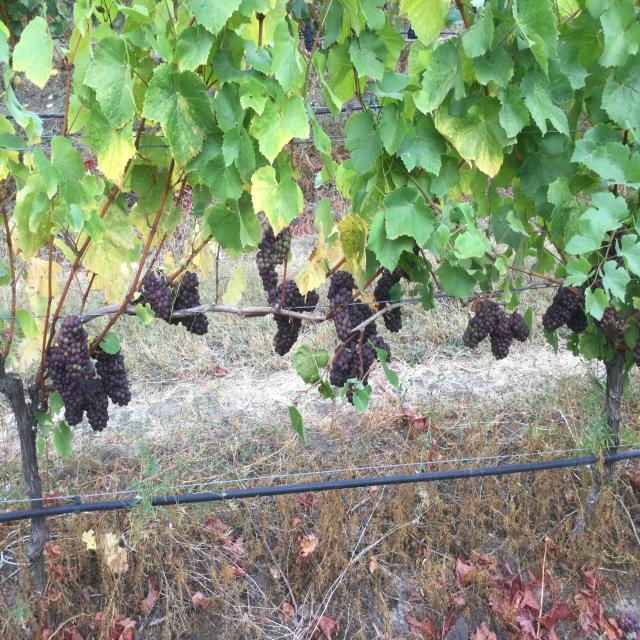stem: (90, 158, 175, 352), (49, 258, 79, 350), (80, 240, 90, 255), (110, 193, 115, 200)
